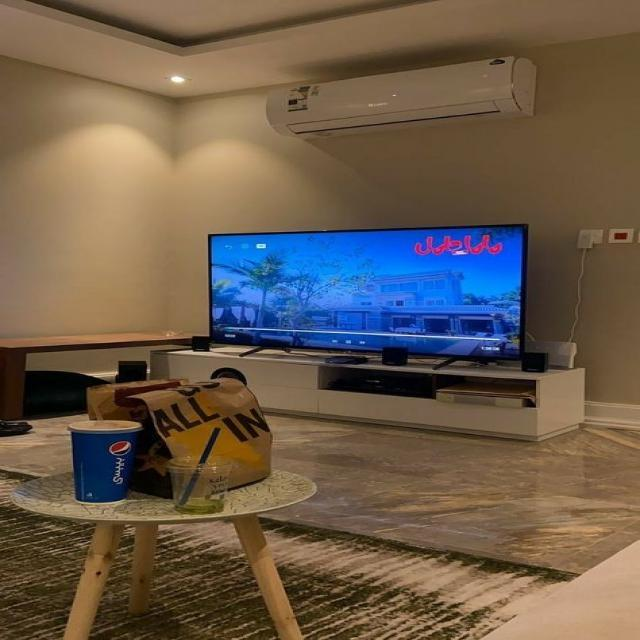AC: (265, 54, 535, 141)
AIO PC-Monitor-TV: (207, 223, 527, 368)
